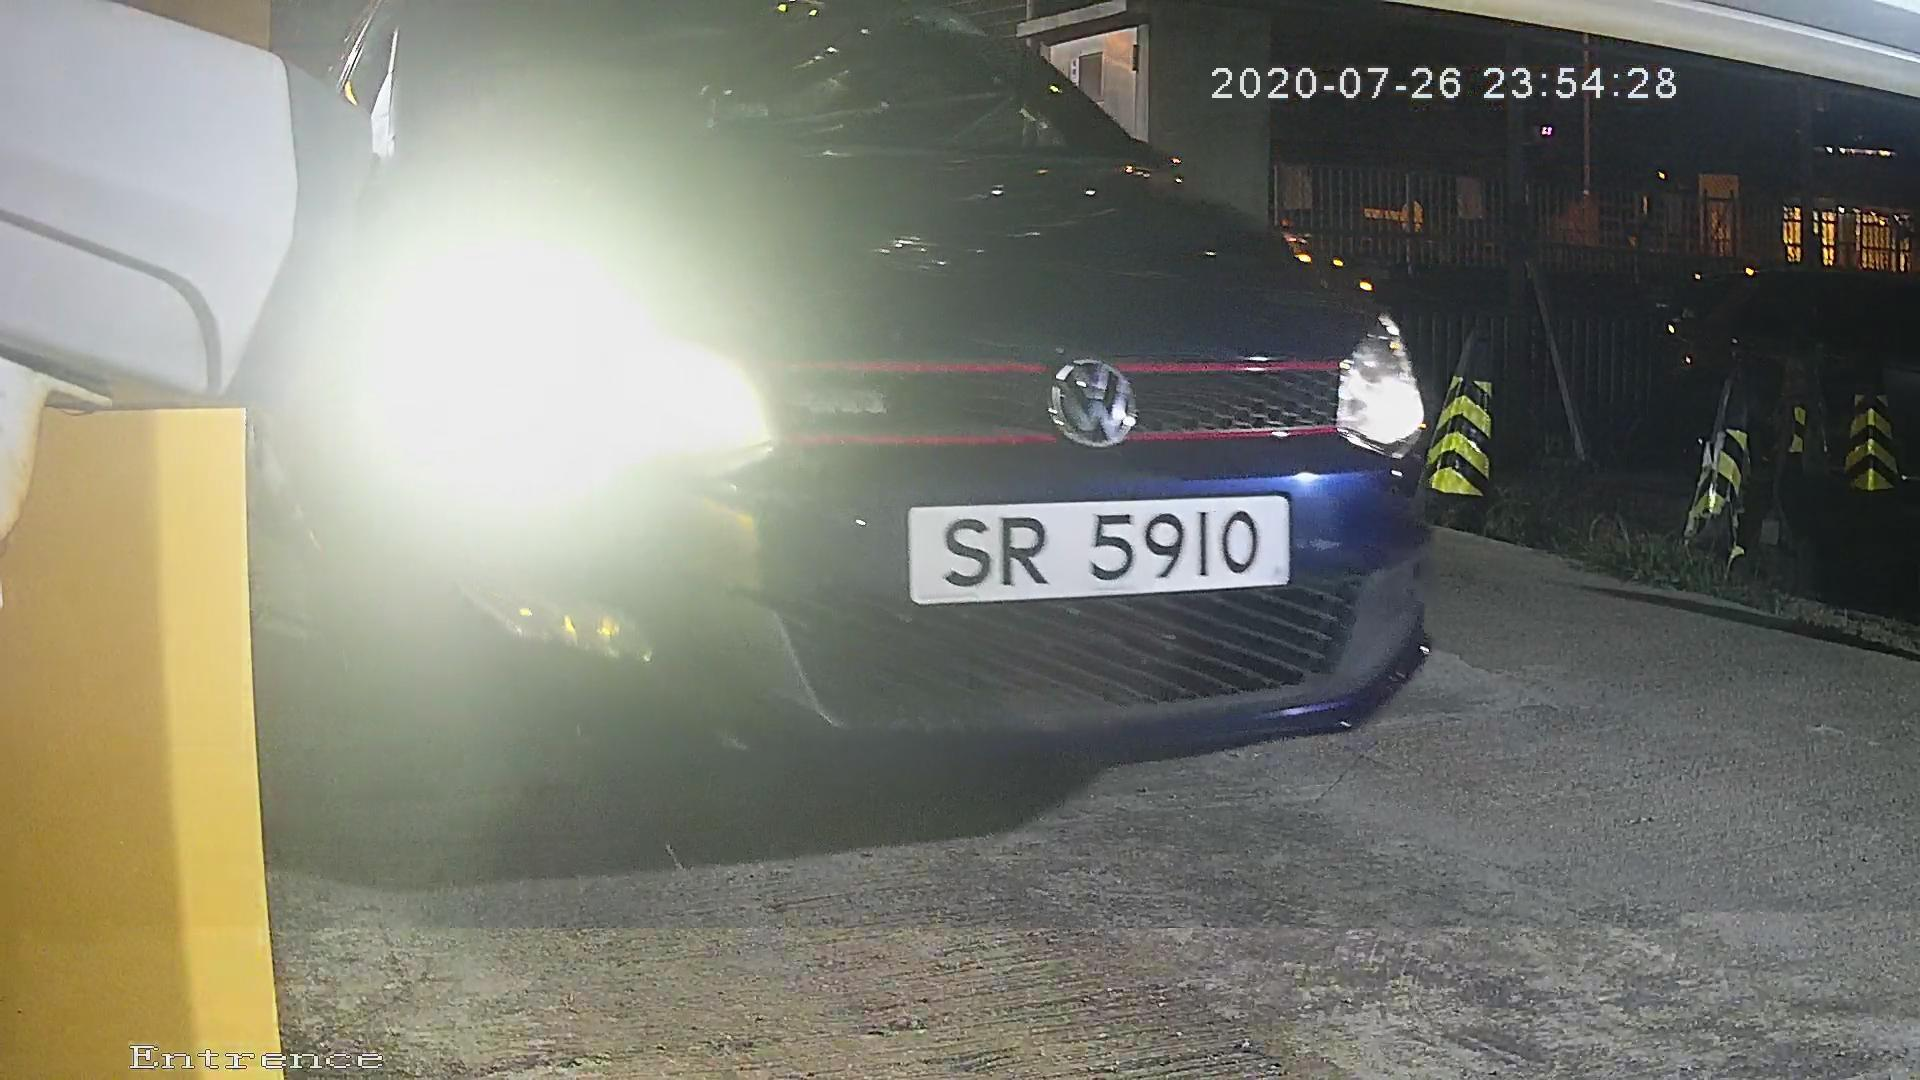Car: (61, 58, 1595, 806)
License Plate: (883, 478, 1312, 608)
